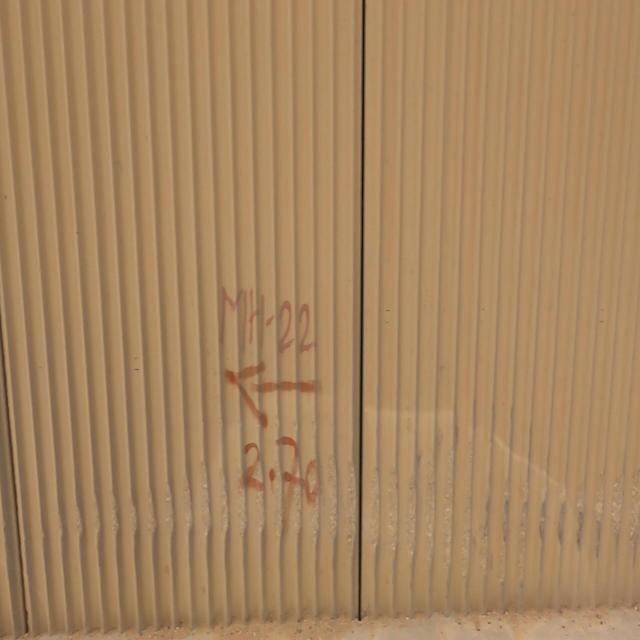Graffiti: (217, 286, 321, 532)
